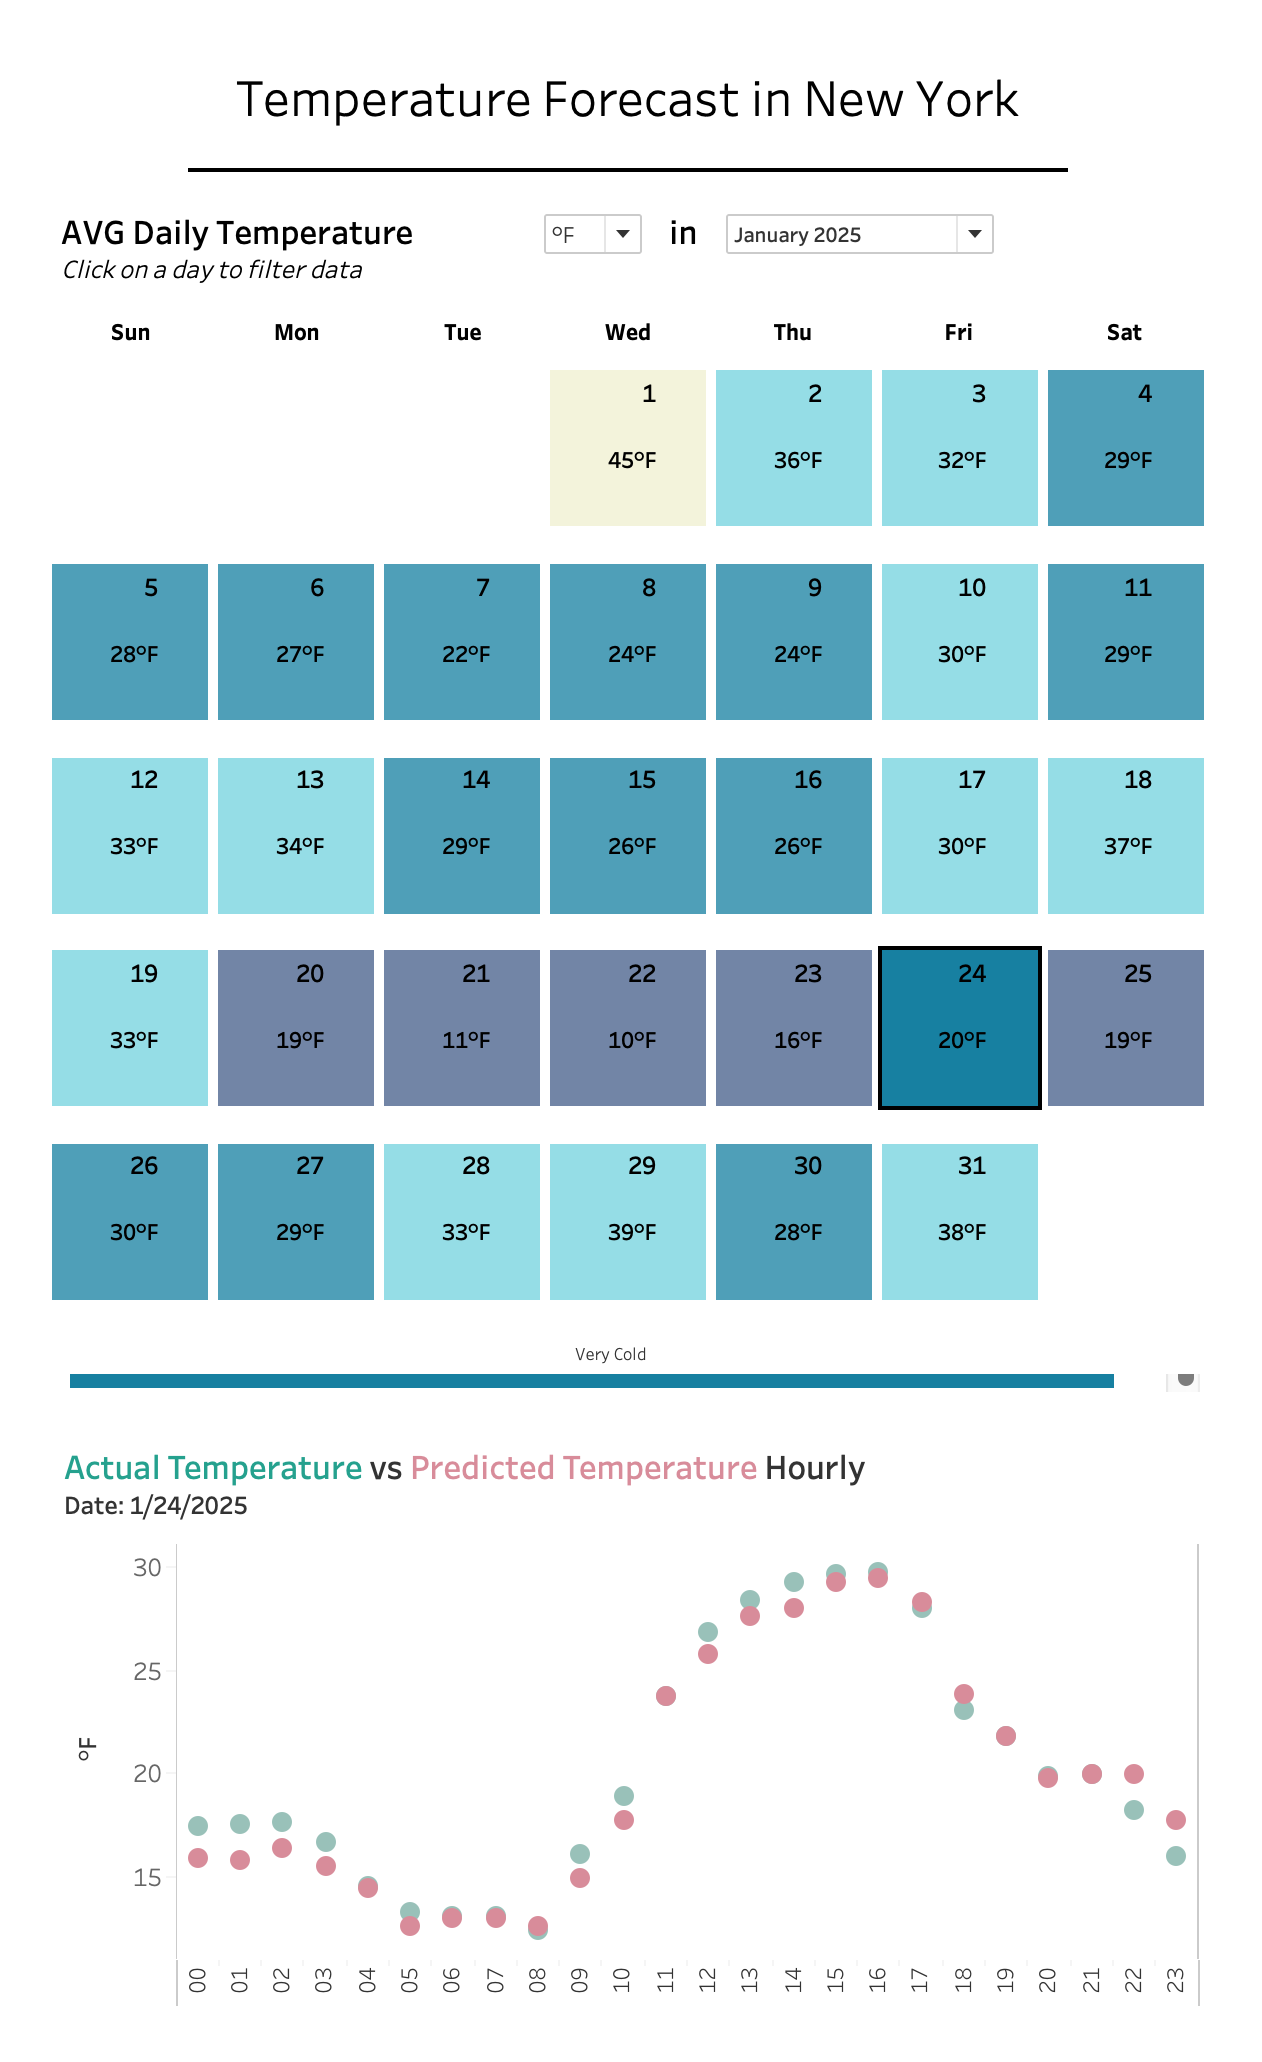

This screenshot's page, from the dashboard's own definition file:
{"tool":"tableau","page":{"name":"Temp Forecast","canvas":[600,1000],"ordinal":0},"visuals":[{"type":"text","box":[0,0,600,62]},{"type":"blank","box":[0,62,600,10]},{"type":"text","box":[10,78,241,56]},{"type":"parameter","param":"[Parameters].[Parameter 2]","box":[251,78,63,56]},{"type":"text","box":[314,78,28,56]},{"type":"filter","title":"Calendar","param":"[sqlproxy.06aflty0qioahp10ntb8f0ut0j5n].[time (Month / Year) Set]","box":[342,78,248,56]},{"type":"worksheet","title":"Calendar","mark":"Square","rows":["time"],"cols":["time"],"box":[0,138,600,503]},{"type":"worksheet","title":"color legend","mark":"GanttBar","cols":["Calculation_1119988971004014603","Calculation_926897137326551072"],"box":[0,641,600,45]},{"type":"worksheet","title":"not_null","mark":"Circle","rows":["Calculation_926897137335386149"],"cols":["time"],"box":[0,686,600,280]},{"type":"worksheet","title":"incl_null","mark":"Circle","rows":["Calculation_926897137335107620","Calculation_926897137335386149"],"cols":["time"],"box":[0,686,600,314]}]}

Visuals, with their boxes in screenshot pixels (x1, y1, x2, y2), scaled from the page's 600x1000 canvas onto the 1262x2062 screenshot:
text: region(0, 0, 1261, 128)
blank: region(0, 128, 1261, 148)
text: region(21, 161, 528, 276)
parameter: region(528, 161, 660, 276)
text: region(660, 161, 719, 276)
"Calendar" filter: region(719, 161, 1241, 276)
"Calendar" worksheet (Square marks): region(0, 285, 1261, 1322)
"color legend" worksheet (GanttBar marks): region(0, 1322, 1261, 1415)
"not_null" worksheet (Circle marks): region(0, 1415, 1261, 1992)
"incl_null" worksheet (Circle marks): region(0, 1415, 1261, 2061)
